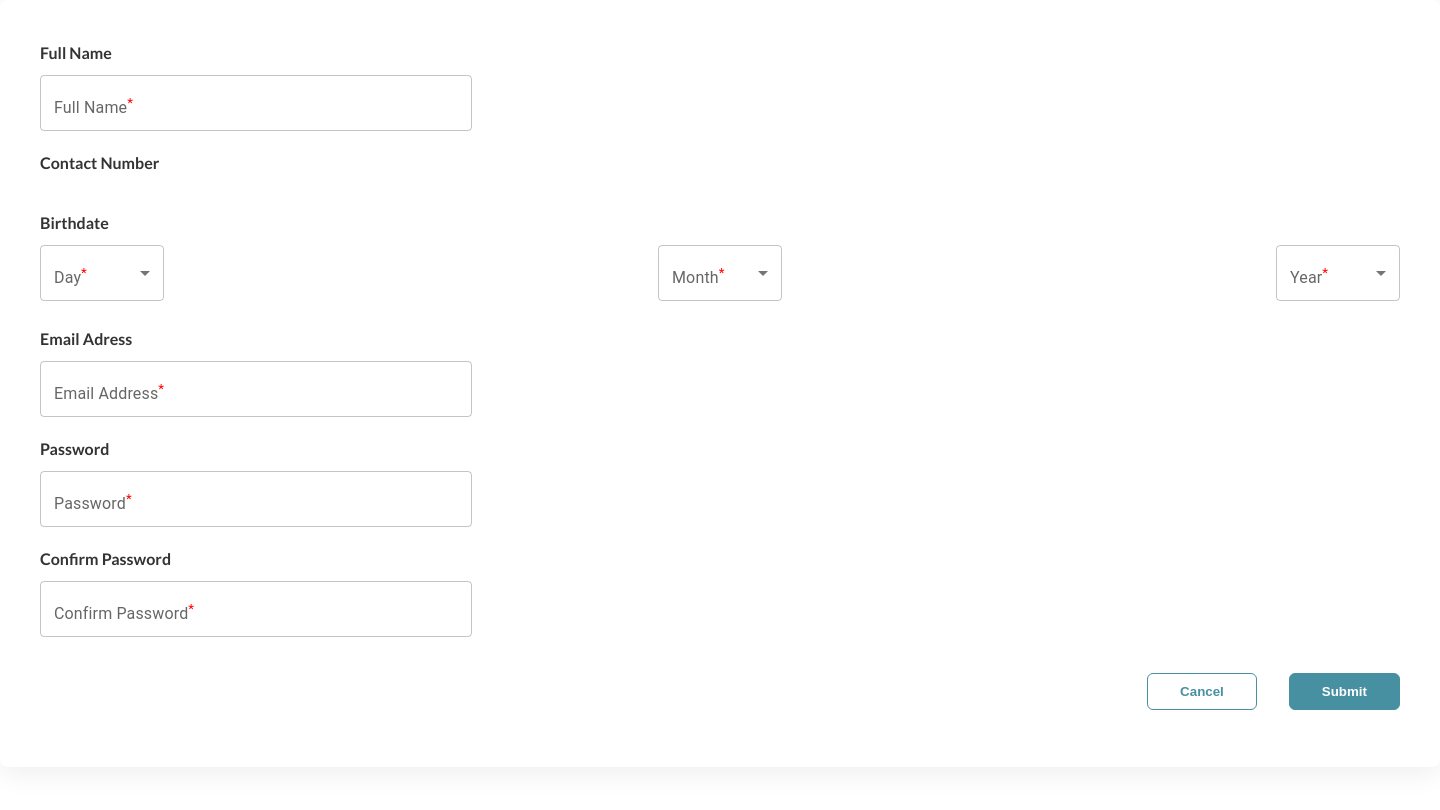
Test: Test create user form: › test Password
This screenshot has width=1440, height=810.
Type "123456" into the password field labelled "Password*" at [256, 499], box [40,471,472,527]
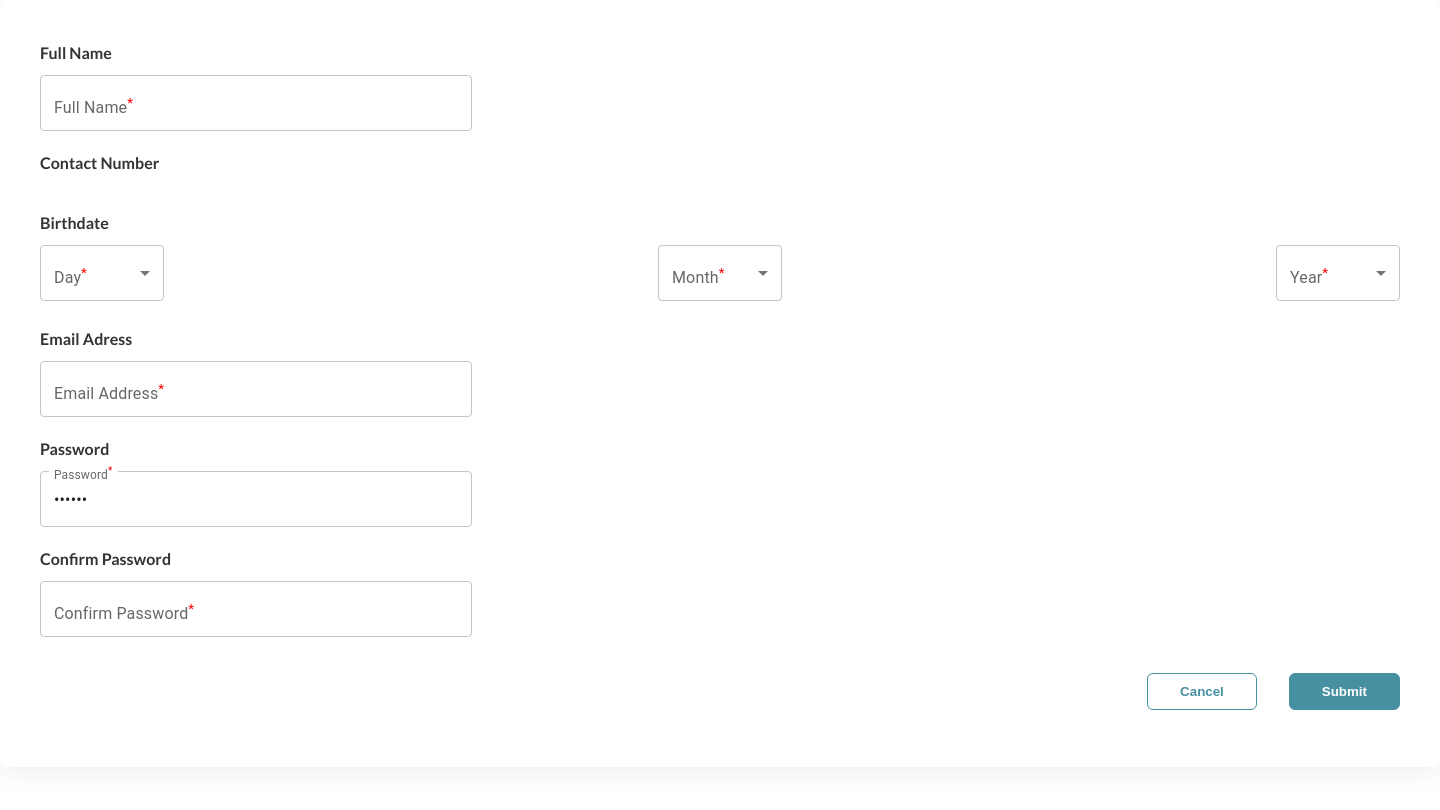
Check: the text "Password must contain atleast 8 characters" is not shown
# click on submit
Click the button "Submit" at [1344, 692], box [1289,673,1400,710]
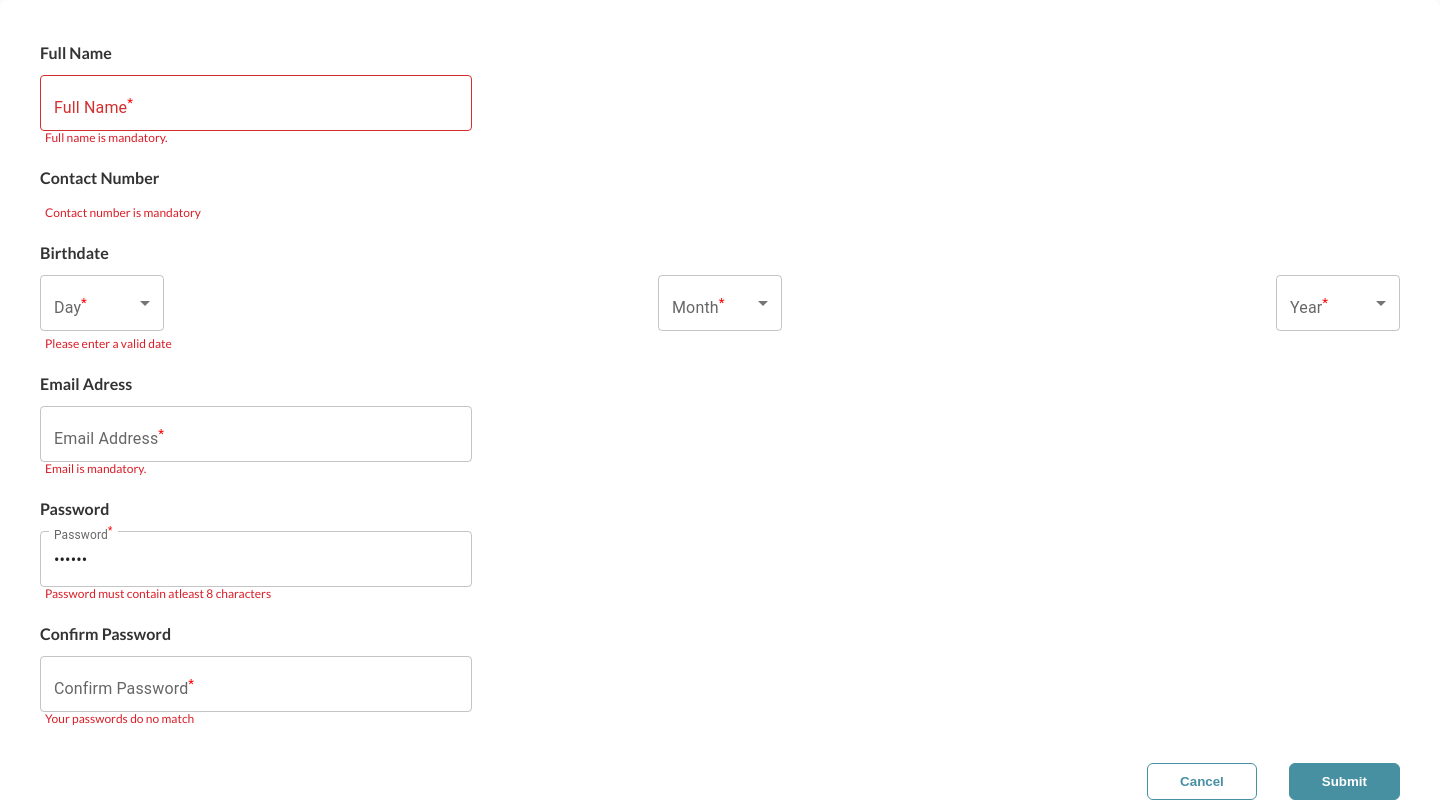
Check: the text "Password must contain atleast 8 characters" is shown, box [45,586,271,601]
# Test without cpas
Type "1234567a" into the password field labelled "Password*" at [256, 559], box [40,531,472,587]
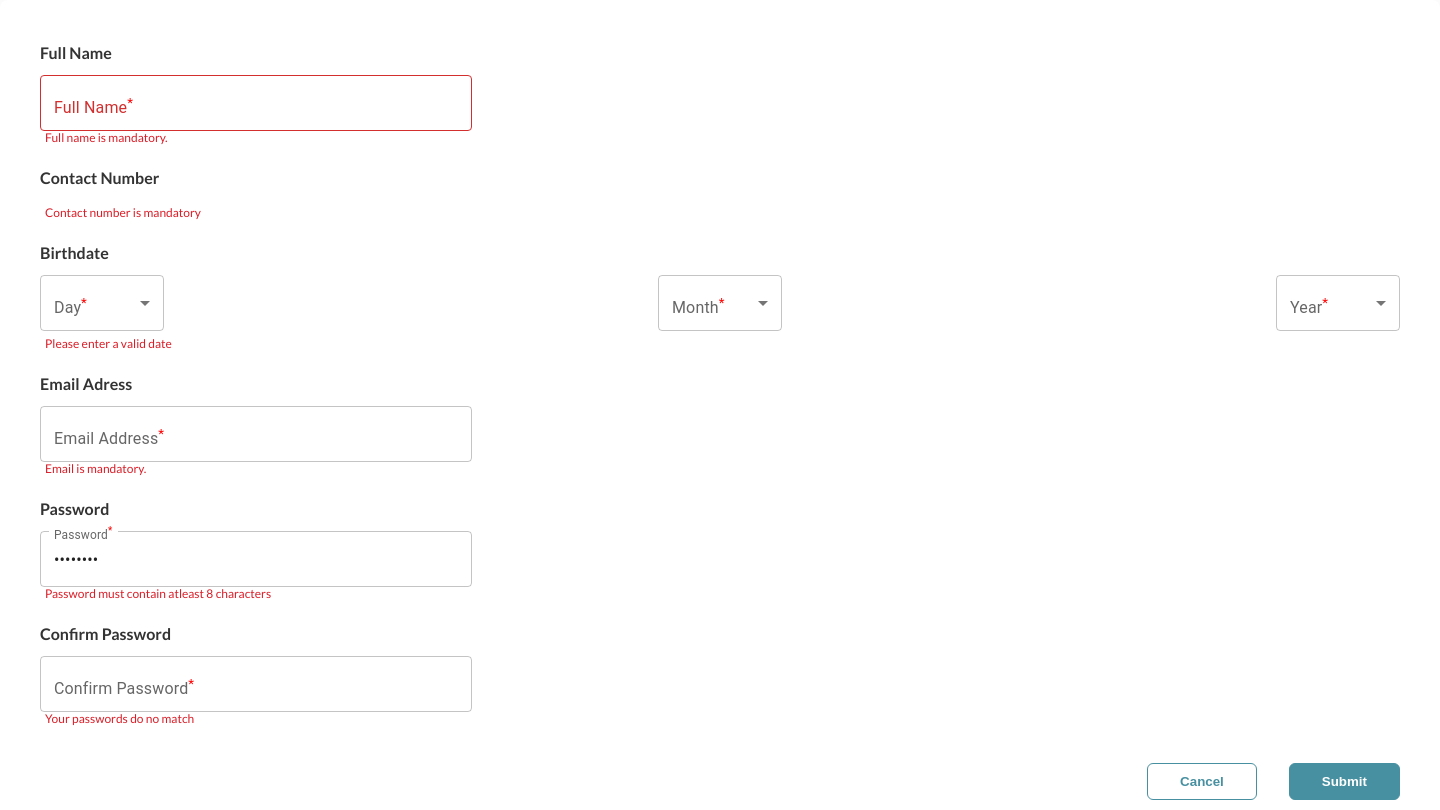
# click on submit
Click the button "Submit" at [1344, 782], box [1289,763,1400,800]
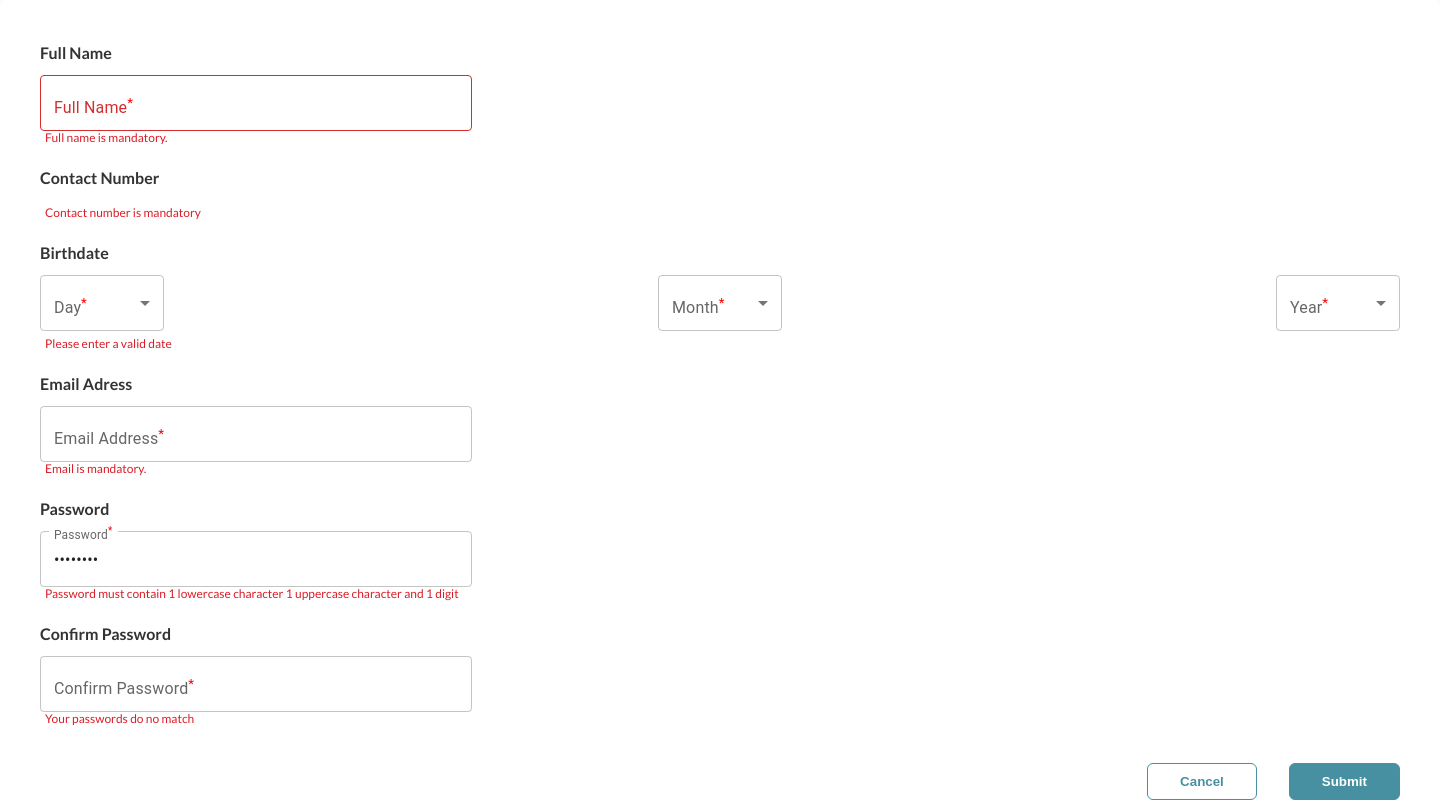
Check: the text "Password must contain 1 lowercase character 1 uppercase character and 1 digit" is shown, box [45,586,459,601]
